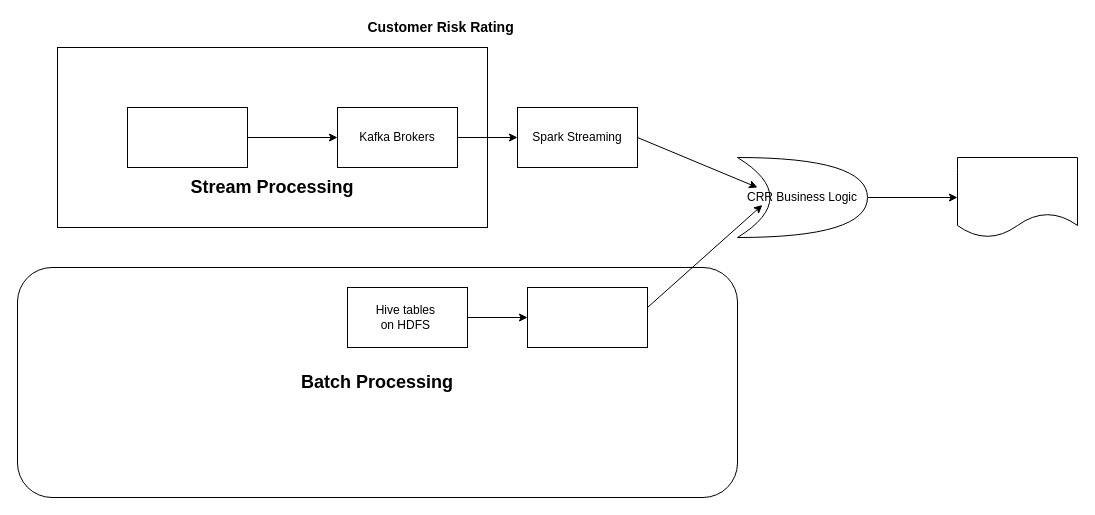
This 1095x515 diagram has some shape labels left out. The shapes that lost their labels are listed below. From the top down, each one's centre as x and y in pixels, then its label:
At [187,137]: "Kafka Producer".
At [1017,197]: "Visualization".
At [587,317]: "Spark SQL".
